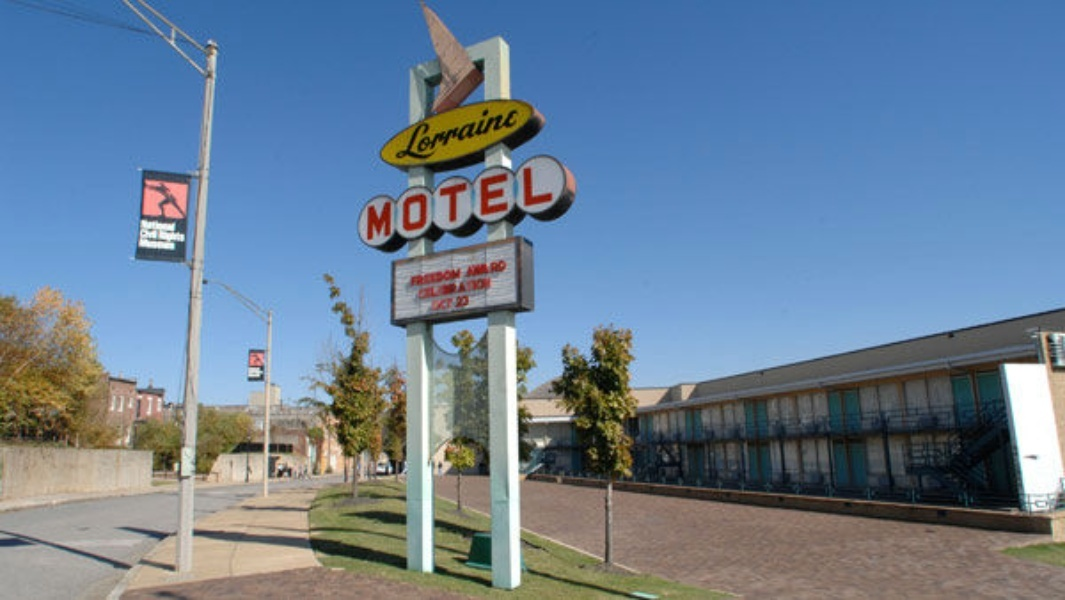text: (369, 164, 384, 242), (385, 164, 400, 242), (401, 164, 416, 242), (417, 164, 432, 242), (433, 164, 448, 242), (449, 164, 464, 242), (465, 164, 480, 242), (481, 164, 496, 242), (497, 164, 512, 242), (513, 164, 528, 242), (529, 164, 544, 242), (417, 100, 432, 169), (433, 100, 448, 169), (449, 100, 464, 169), (465, 100, 480, 169), (481, 100, 496, 169), (497, 100, 512, 169), (545, 164, 556, 242), (405, 100, 416, 169), (513, 100, 521, 169), (433, 277, 448, 299), (449, 277, 464, 299), (465, 277, 480, 299), (418, 277, 432, 299), (417, 267, 432, 286), (433, 267, 448, 286), (145, 217, 160, 233), (161, 217, 176, 233), (433, 297, 448, 311), (145, 228, 160, 242), (161, 228, 176, 242), (145, 237, 160, 251), (449, 267, 460, 286), (481, 277, 490, 299), (466, 263, 480, 276), (161, 237, 174, 251), (366, 164, 368, 242), (455, 293, 464, 308), (497, 260, 506, 274), (137, 217, 144, 233), (481, 263, 489, 276), (411, 267, 416, 286), (490, 260, 496, 274), (177, 228, 183, 242), (139, 228, 144, 242), (139, 237, 144, 251), (465, 293, 469, 308), (449, 297, 453, 311), (430, 297, 432, 311)
